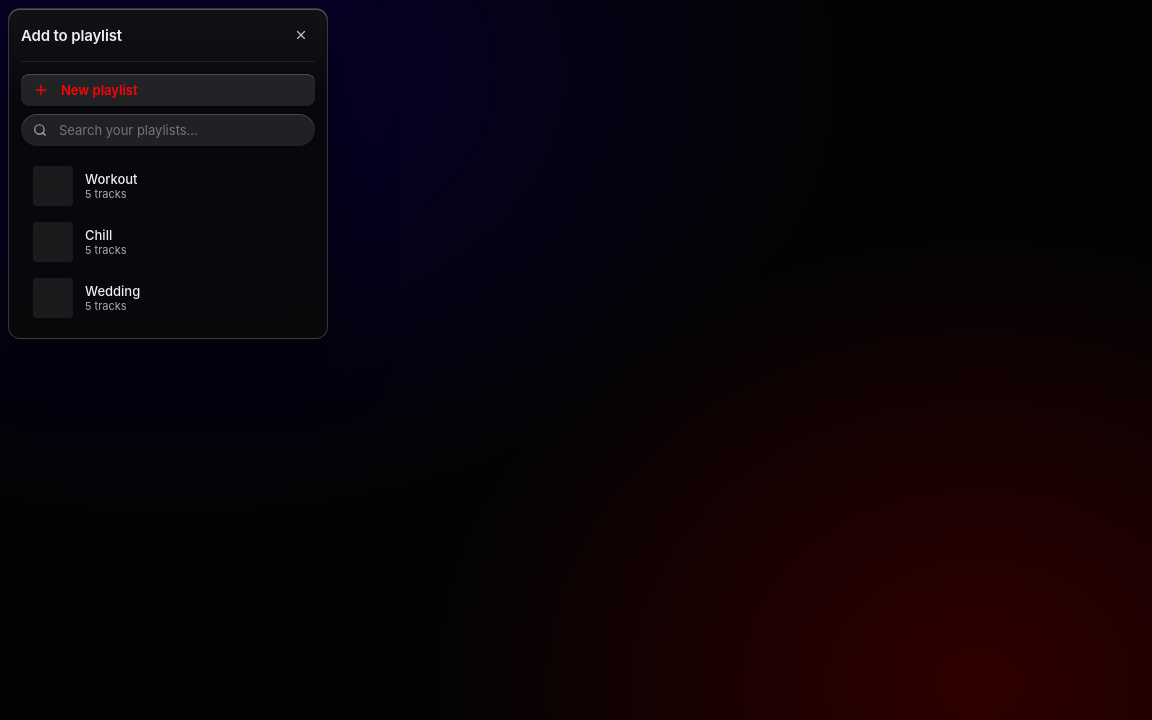
Scenario: AddToPlaylistPicker › search filters the list live
The width and height of the screenshot is (1152, 720).
Check: the option "Workout 5 tracks" is shown, box top-left (21, 158), bottom-right (315, 214)
Type "wo" into the field with placeholder "Search your playlists…" at (181, 130), box top-left (47, 114), bottom-right (315, 146)
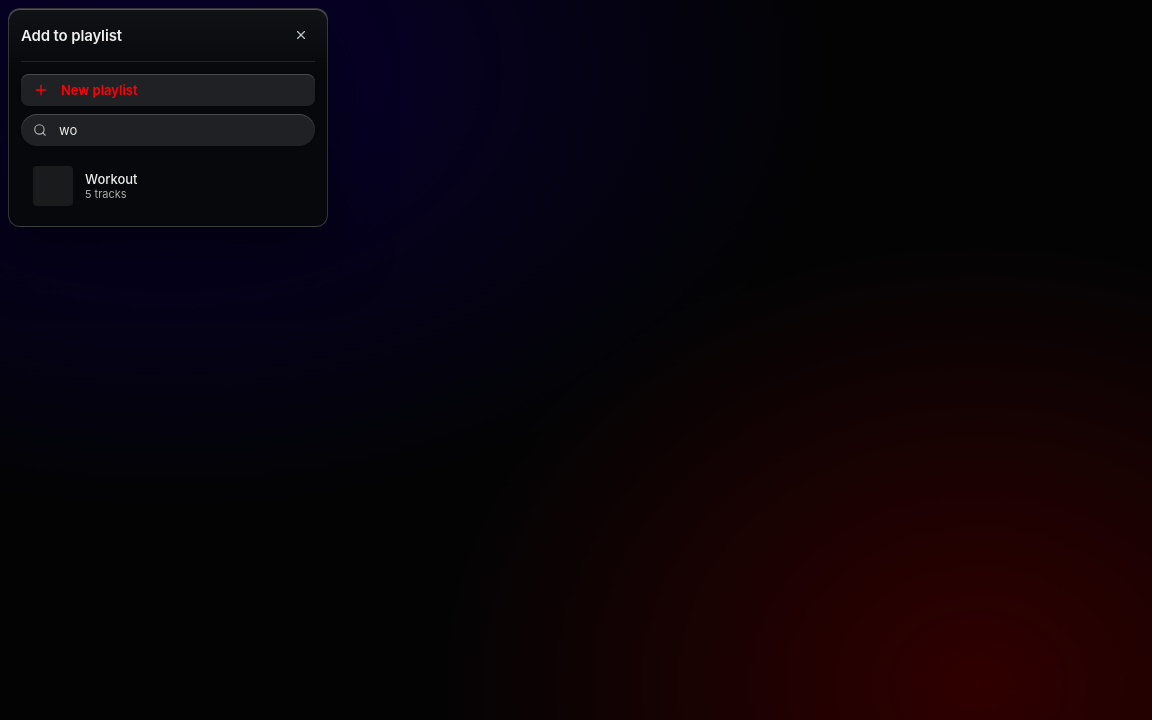
Check: the option "Workout 5 tracks" is shown, box top-left (21, 158), bottom-right (315, 214)
Check: the option "Chill" is gone
Check: the option "Wedding" is gone
